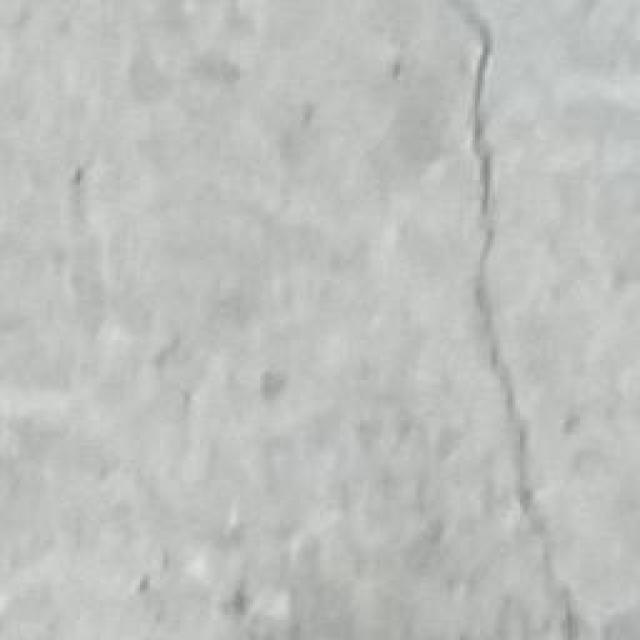Longitudinal: (425, 0, 590, 625)
